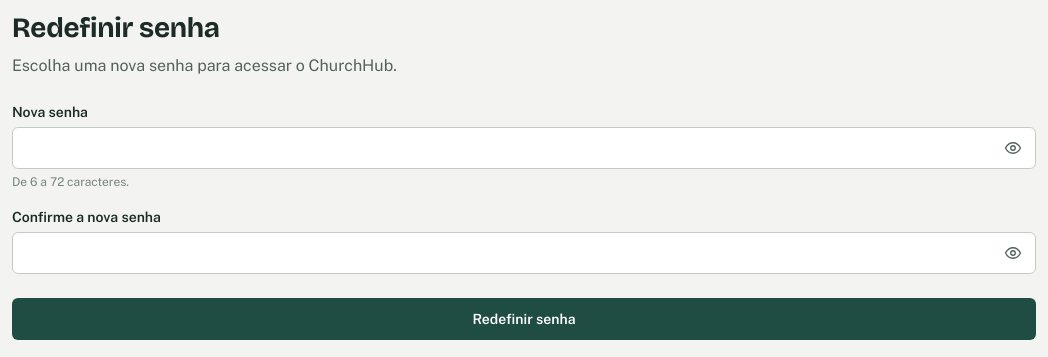
Test: redefinir senha › token inválido ou expirado: mensagem clara e link para pedir outro
The image size is (1048, 357).
Step 1. Type "novaSenha1" into the password field labelled "Nova senha" → (524, 148), box x1=12 y1=127 x2=1036 y2=169
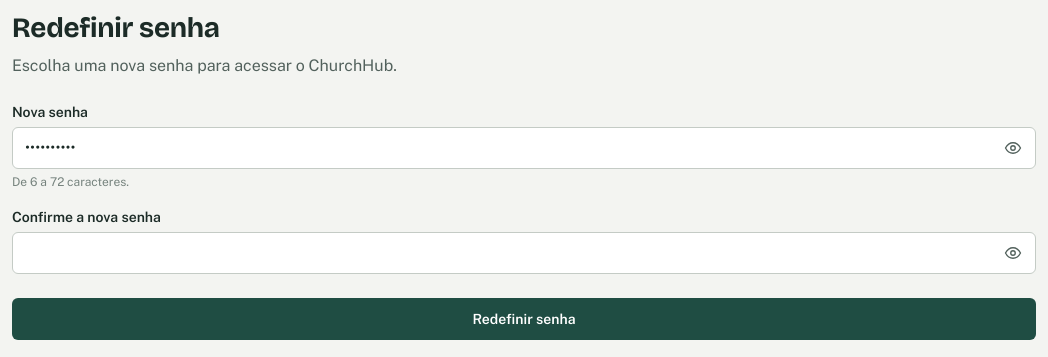
Step 2. Type "novaSenha1" into the password field labelled "Confirme a nova senha" → (524, 253), box x1=12 y1=232 x2=1036 y2=274
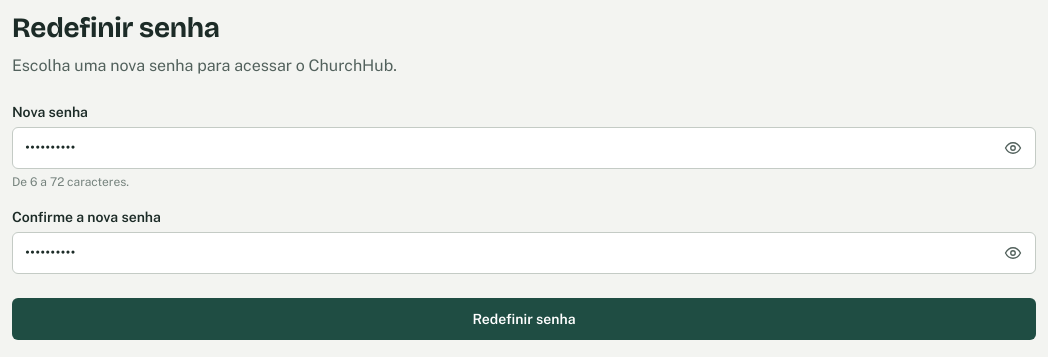
Step 3. Click the button "Redefinir senha" → (524, 319), box x1=12 y1=298 x2=1036 y2=340
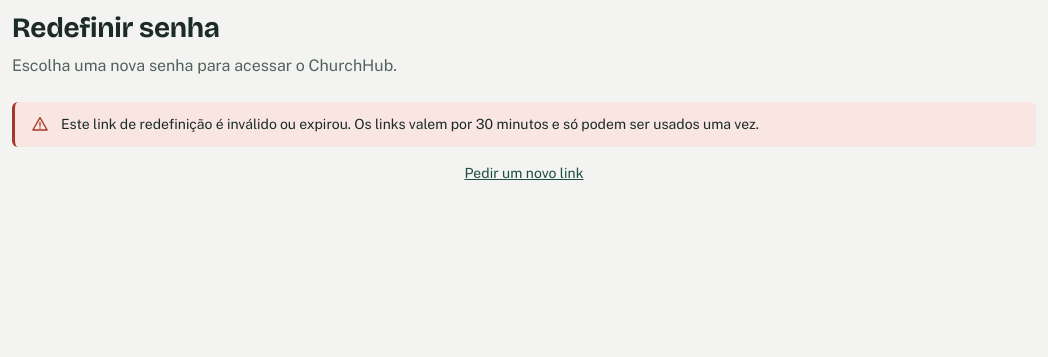
Expected: the message shows "Este link de redefinição é inválido ou expirou. Os links valem por 30 minutos e só podem ser usados uma vez.", x1=61 y1=116 x2=759 y2=132
